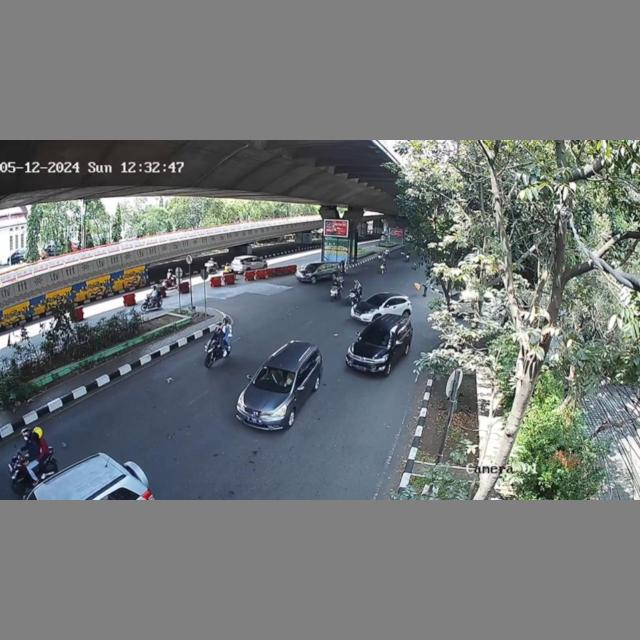windshield: (253, 364, 296, 395), (358, 325, 396, 349)
